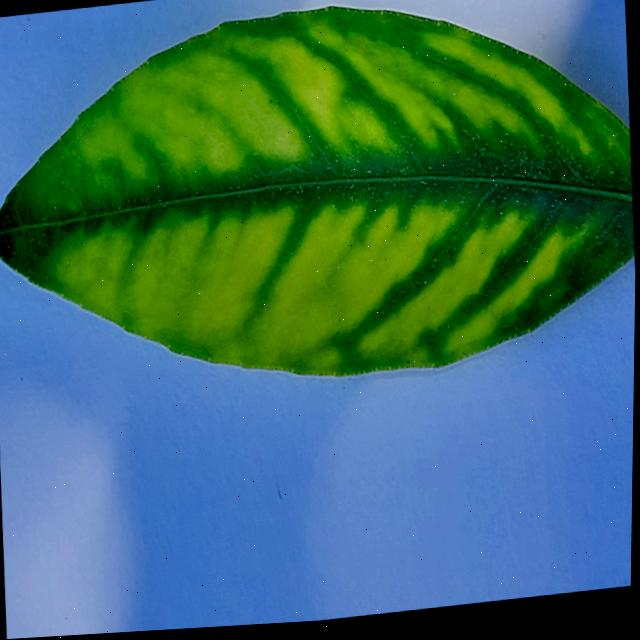greening: (0, 7, 635, 375)
